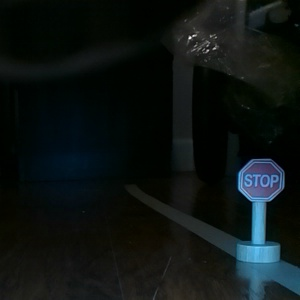stop sign: (231, 156, 289, 267)
